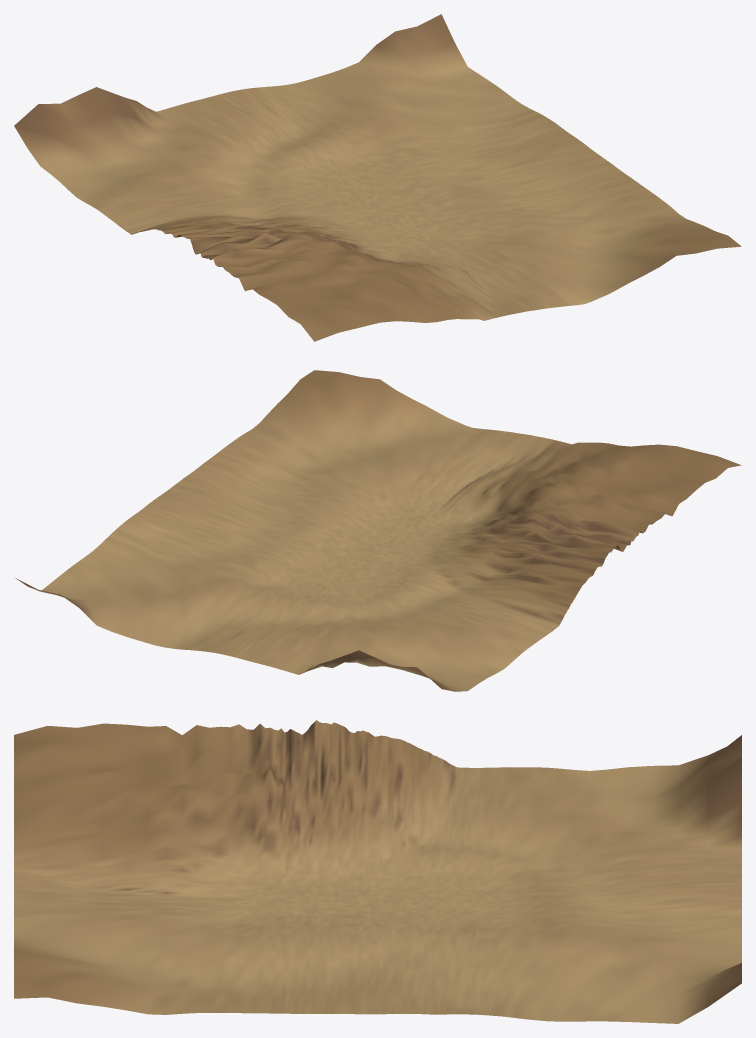
The picture shows the model from 3 angles, top to bottom: view 1: azimuth 30°, elevation 25°; view 2: azimuth 150°, elevation 25°; view 3: azimuth 270°, elevation 25°; orthographic projection. The views are drawn at different scales.
Visible parts, largest first — view 1: terrain-ch04; view 2: terrain-ch04; view 3: terrain-ch04.
Boxes of the visible parts, left/top/right/bottom form: terrain-ch04: left=14, top=14, right=741, bottom=341; terrain-ch04: left=15, top=370, right=741, bottom=691; terrain-ch04: left=14, top=720, right=741, bottom=1023.
Size of the model in its own units: 2945 by 302 by 3585.
